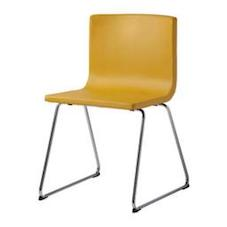chair: (31, 10, 200, 213)
